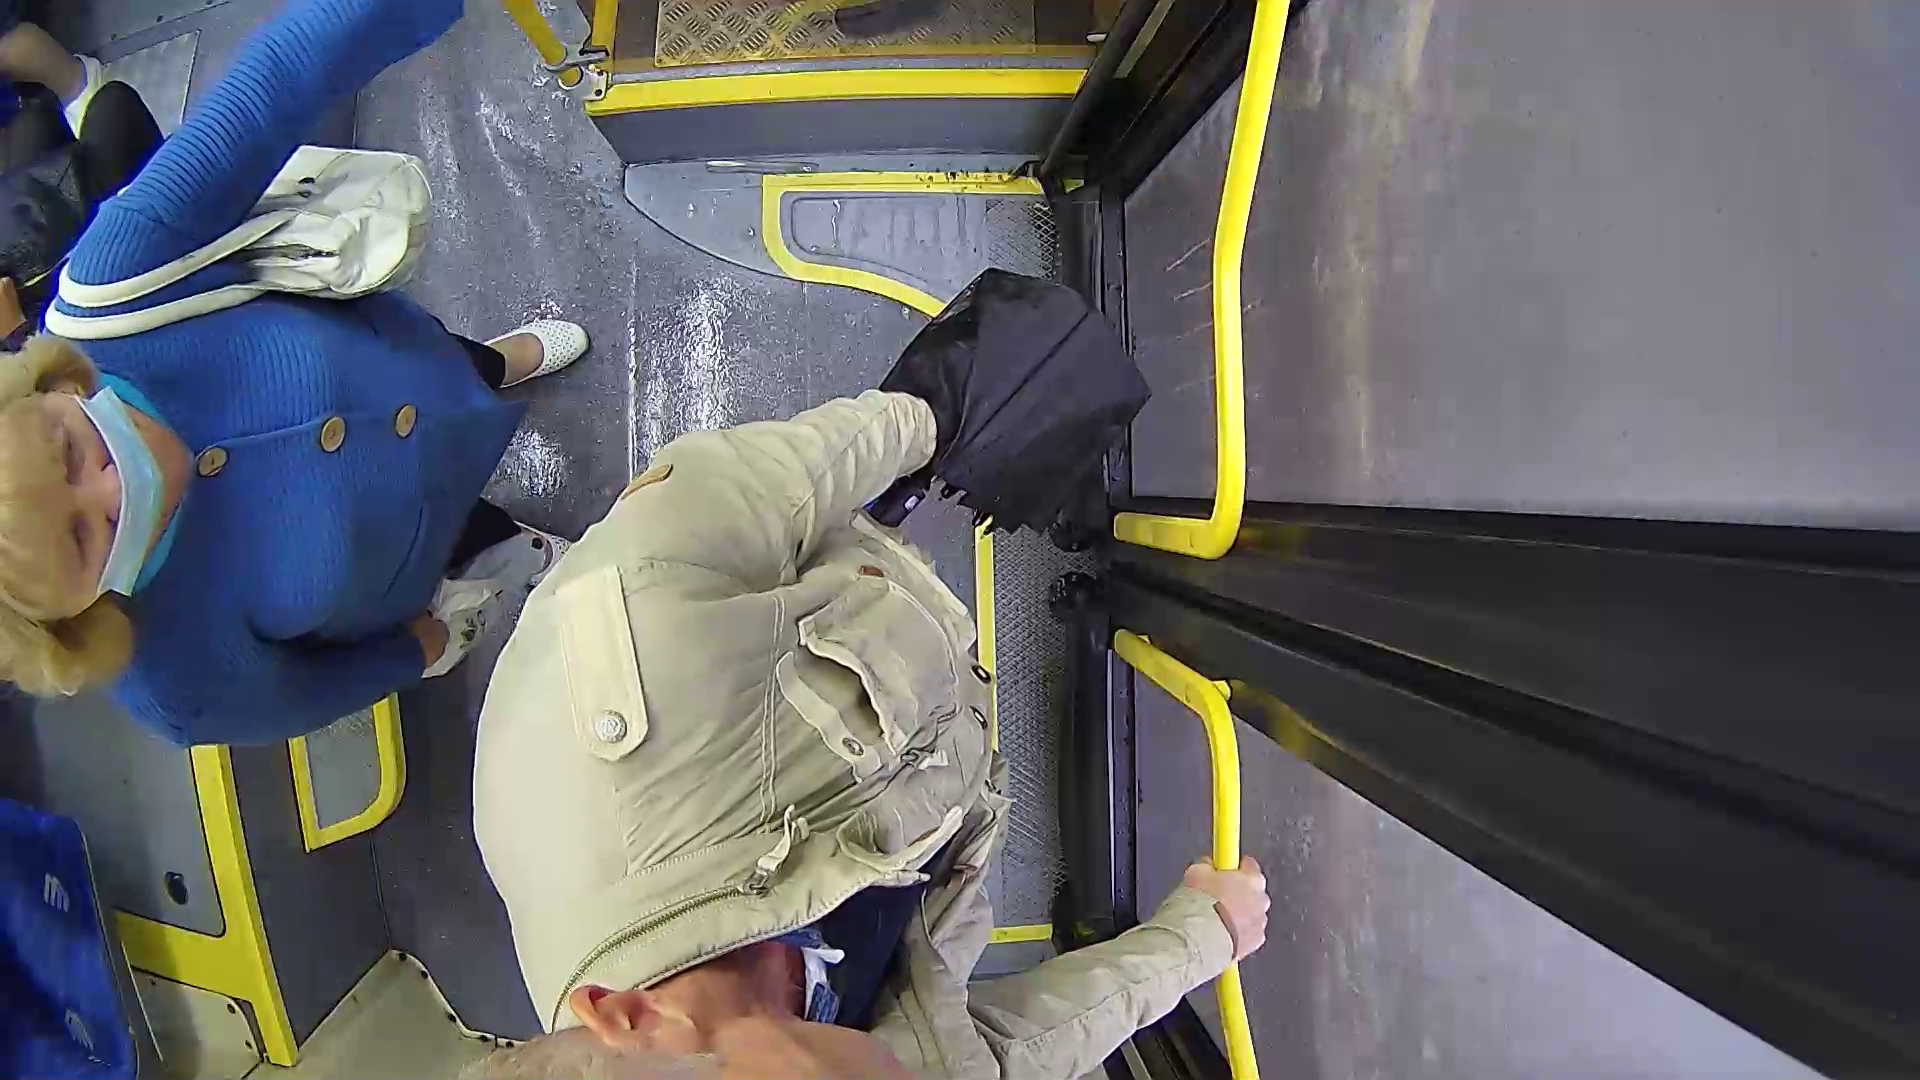person: (407, 333, 1259, 1080)
